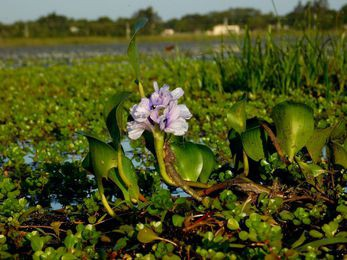water_hyacinth: (88, 15, 347, 215)
